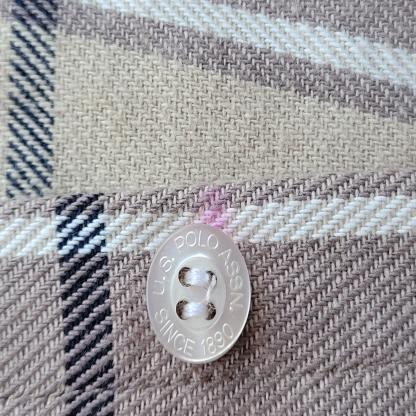spot: (196, 173, 232, 230)
